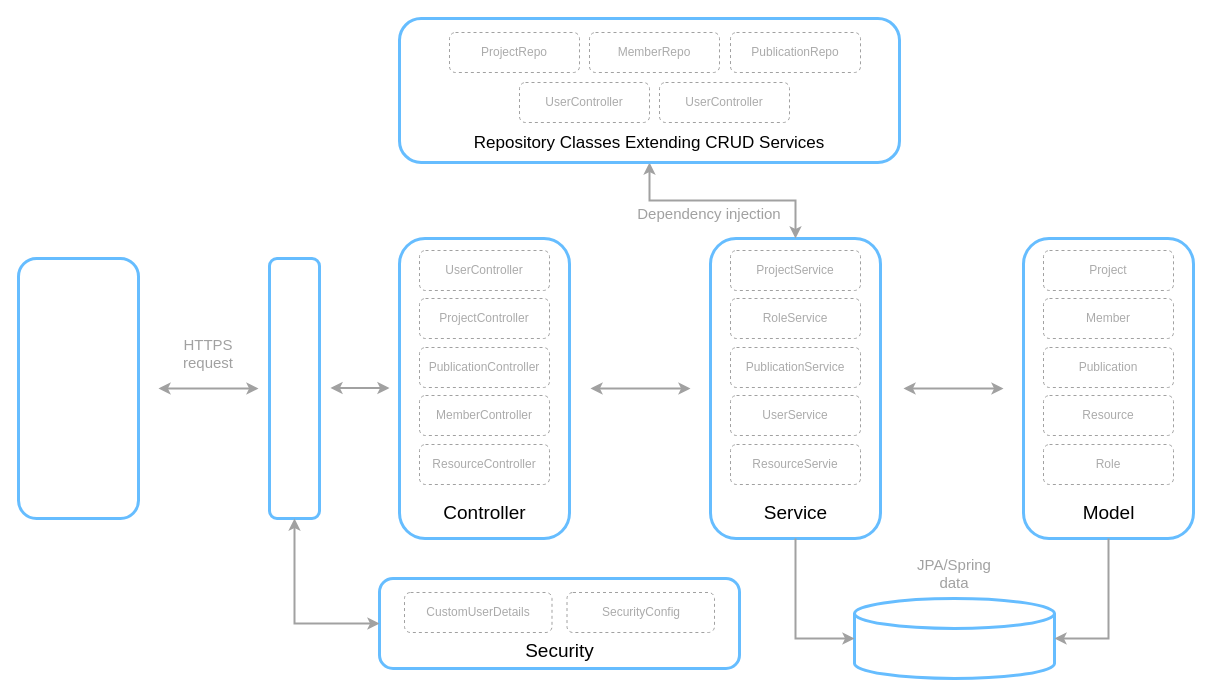
This 1212x697 diagram has some shape labels left out. Here are the shapes that lost their labels. From the top down, the box of each, then its label:
(16, 256, 140, 520): Client
(268, 256, 320, 520): Authentication Filter
(852, 596, 1056, 680): Database
